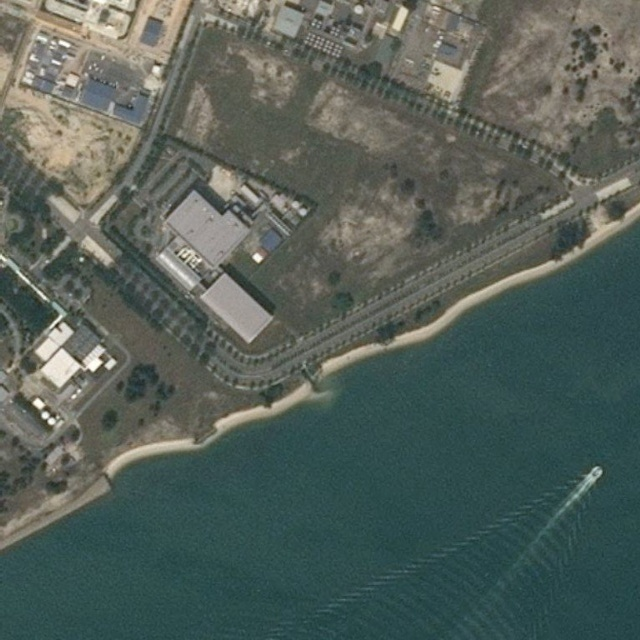wake: (474, 437, 631, 600)
